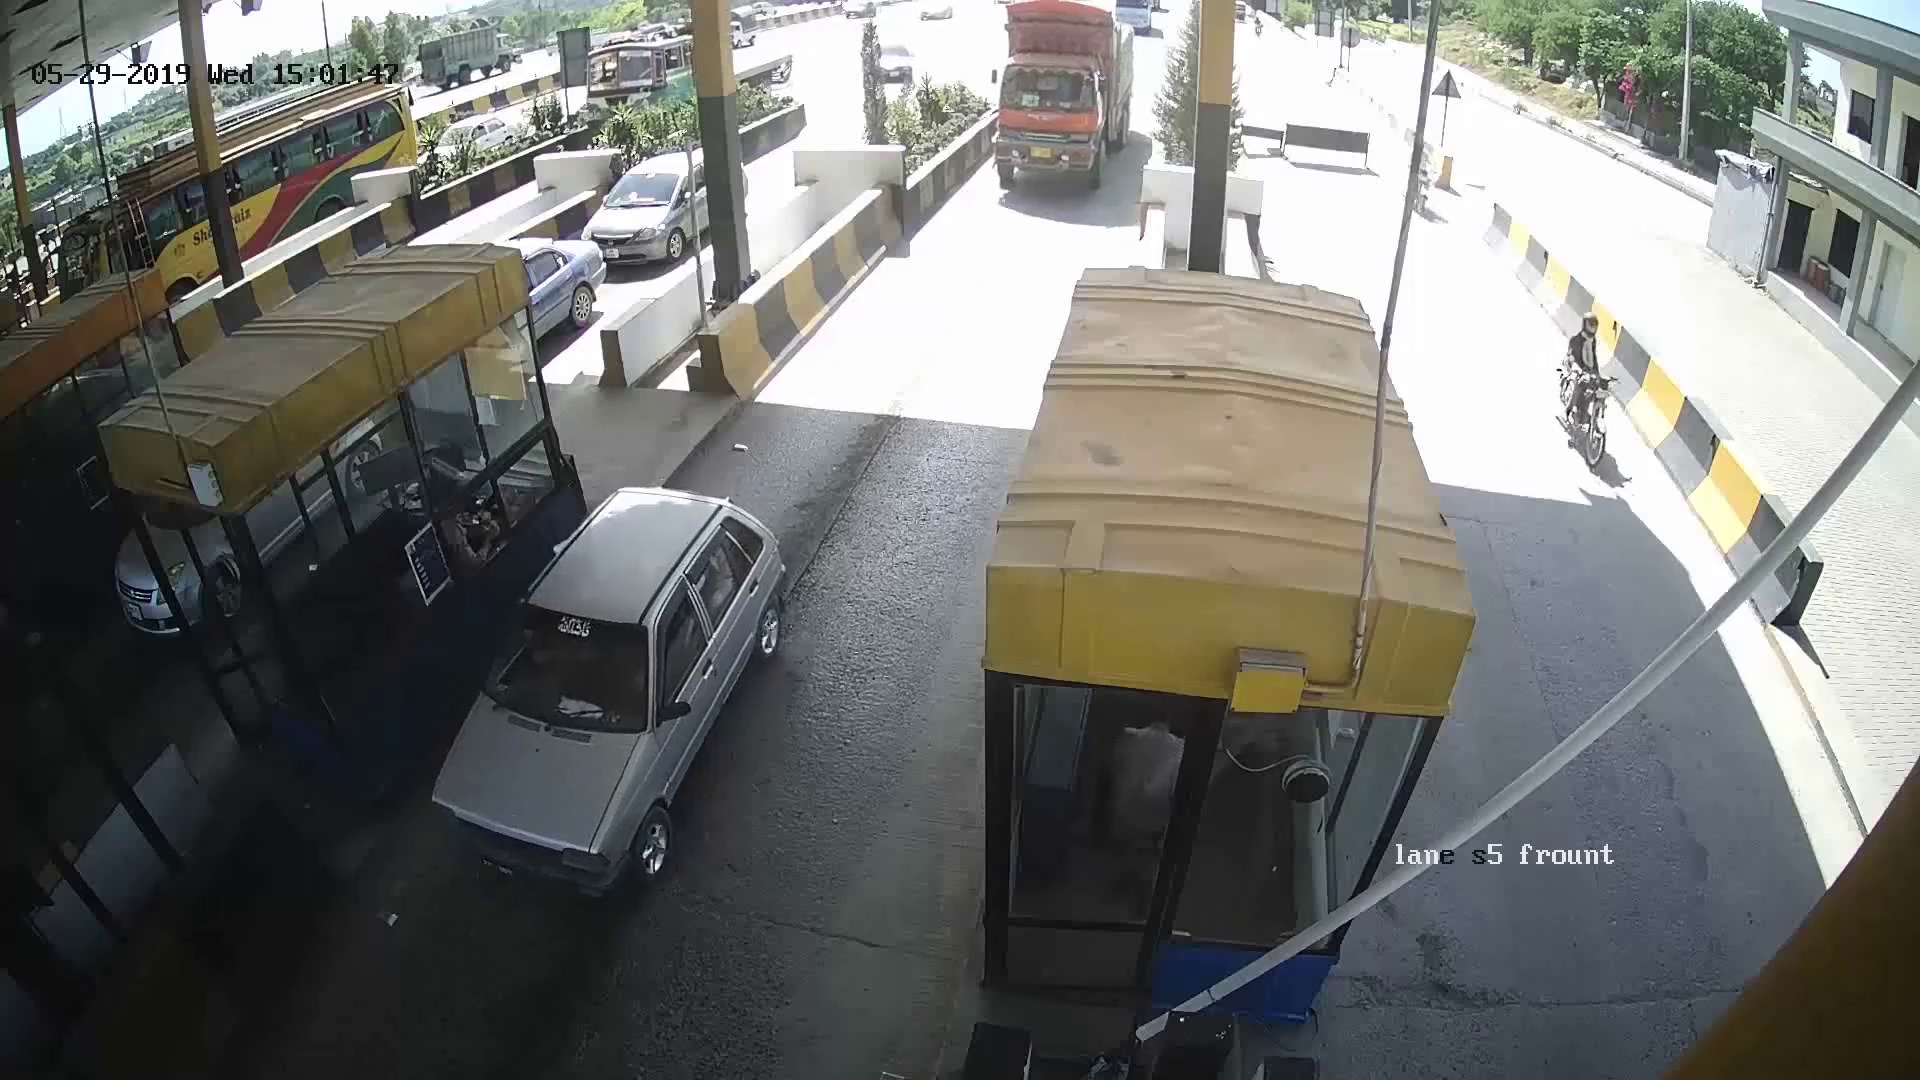car: (471, 525, 803, 866)
truck: (977, 29, 1120, 177)
